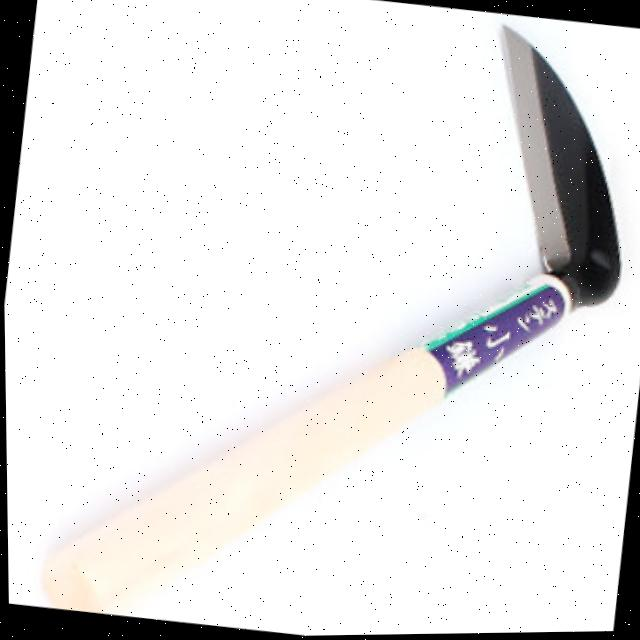sickle: (25, 0, 640, 640)
